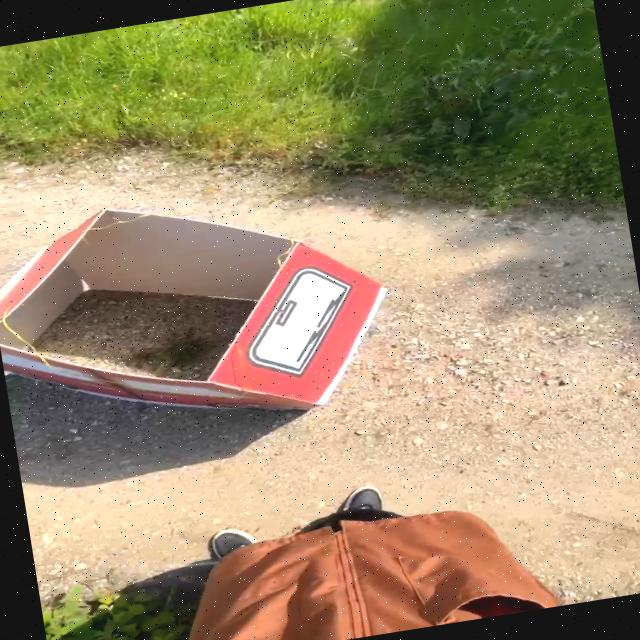red_car: (0, 148, 442, 489)
